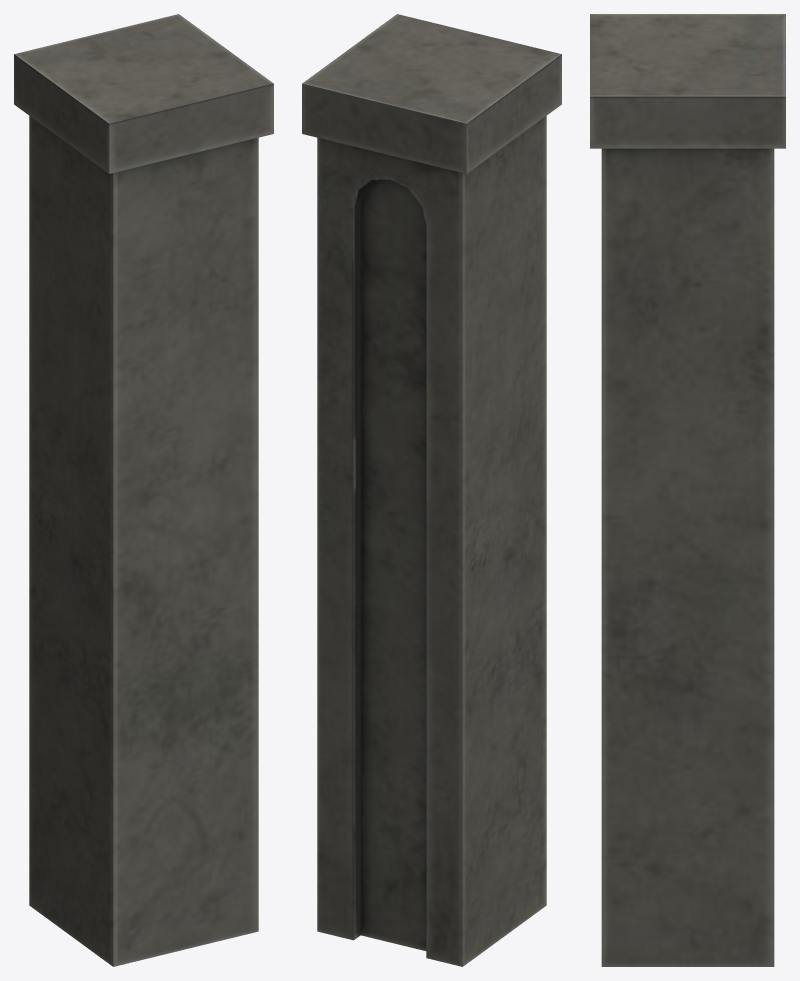
File: SM_Column2.fbx
The picture shows the model from 3 angles, left to right: view 1: azimuth 30°, elevation 25°; view 2: azimuth 150°, elevation 25°; view 3: azimuth 270°, elevation 25°; orthographic projection. The views are drawn at different scales.
Visible parts, largest first — view 1: SM_Column2; view 2: SM_Column2; view 3: SM_Column2.
Boxes of the visible parts, left/top/right/bottom form: SM_Column2: left=14, top=14, right=273, bottom=966; SM_Column2: left=302, top=14, right=561, bottom=966; SM_Column2: left=590, top=14, right=785, bottom=966.
Size of the model in its own units: 50.14 by 50.14 by 247.
